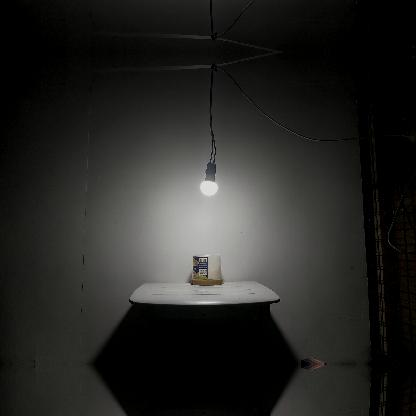Lady-s-Choice: (191, 254, 223, 284)
